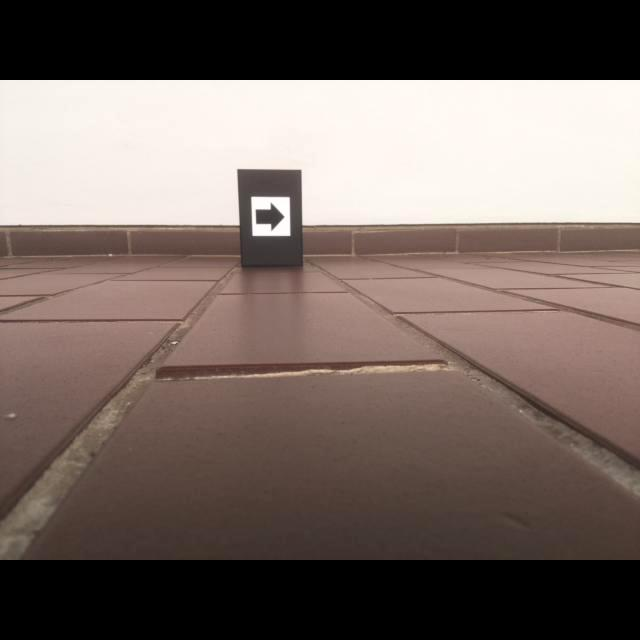RIGHT: (254, 200, 285, 233)
